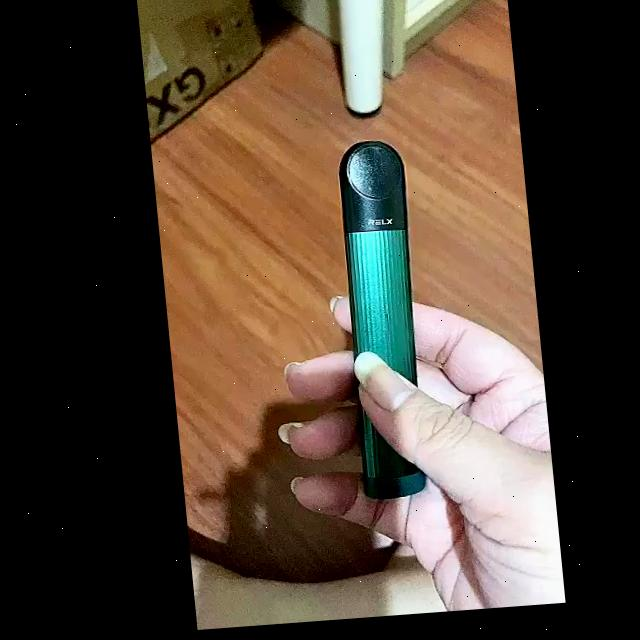vape: (329, 144, 429, 505)
